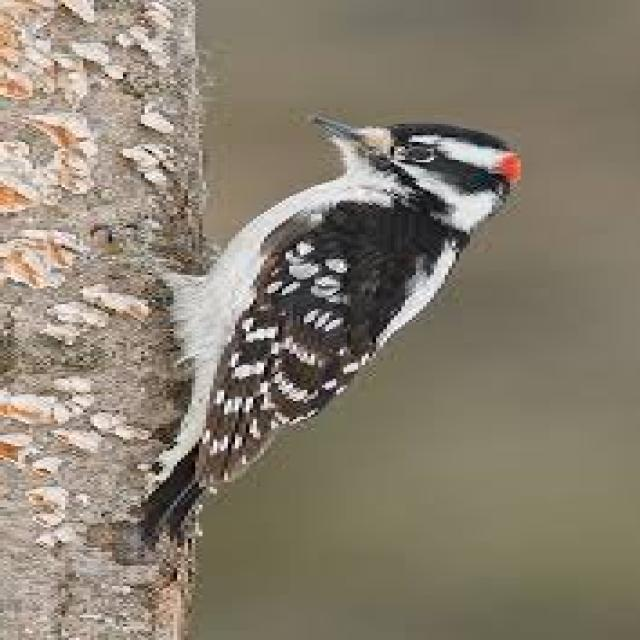Woodpecker: (146, 96, 530, 562)
